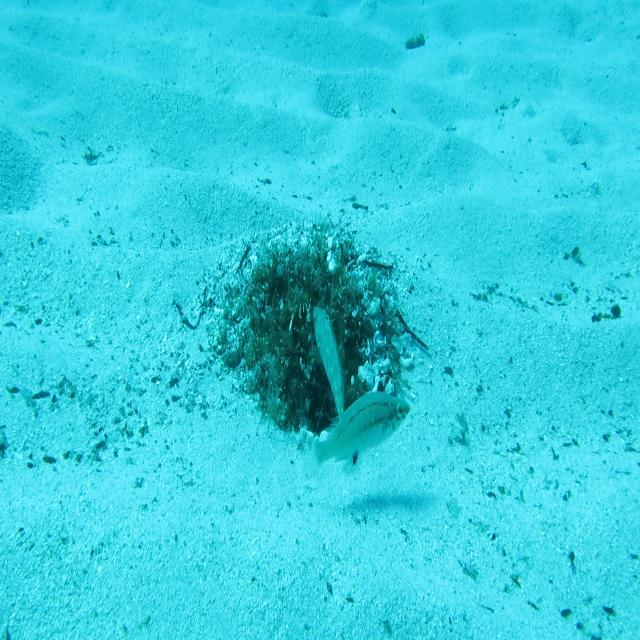INSF: (312, 304, 346, 428)
core_nest: (294, 259, 342, 304)
female: (297, 387, 413, 482)
nest: (194, 199, 426, 468)
vegetation: (406, 36, 426, 54)
